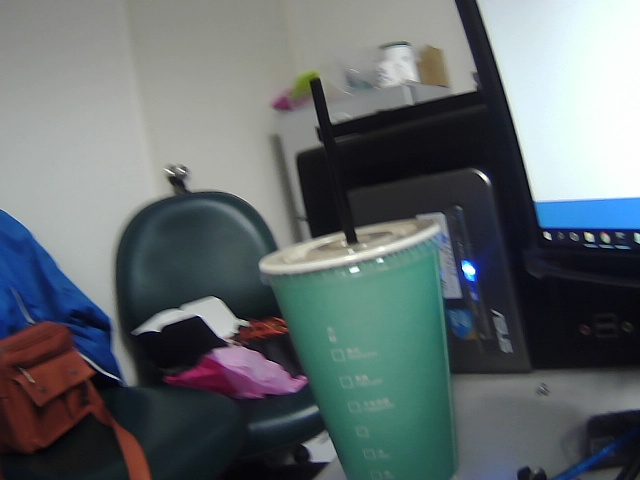beverage: (238, 63, 514, 480)
